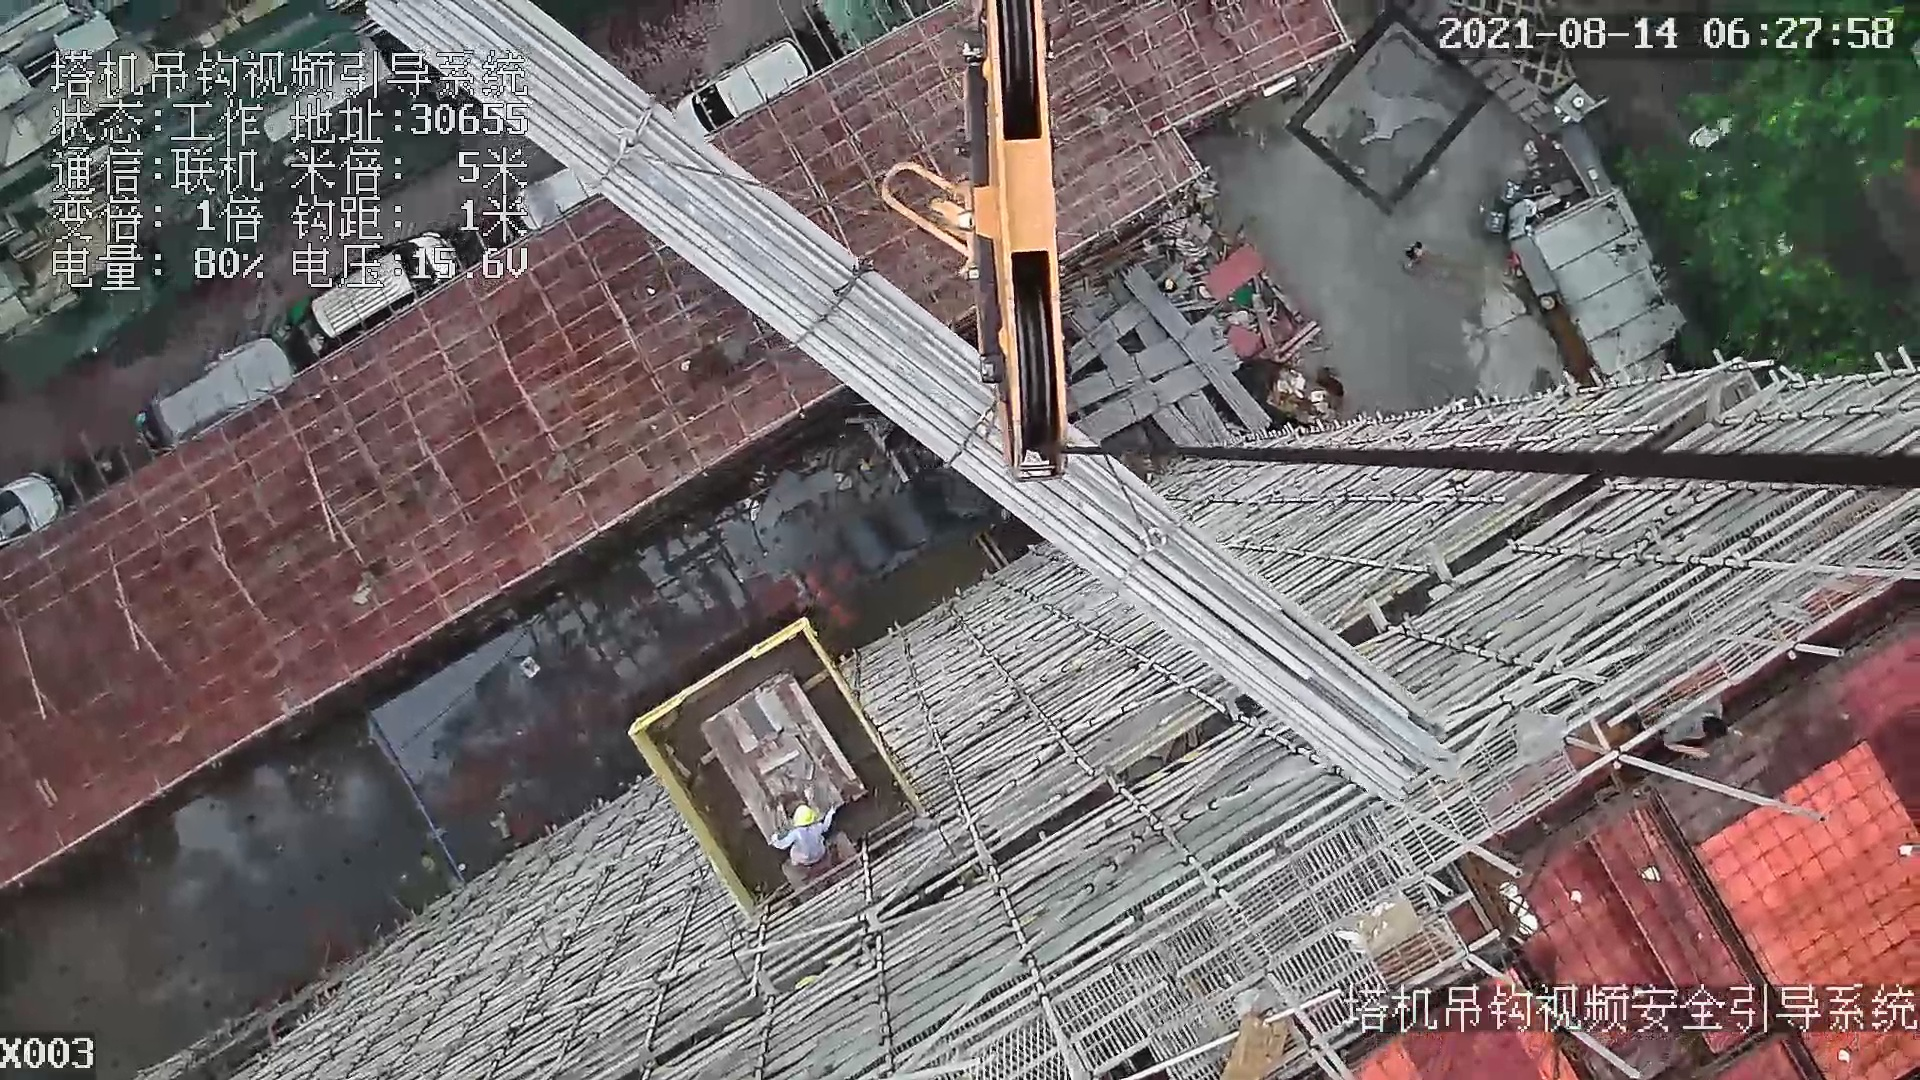helmet: (788, 803, 823, 832)
hook: (969, 1, 1074, 488)
person: (766, 800, 841, 865)
